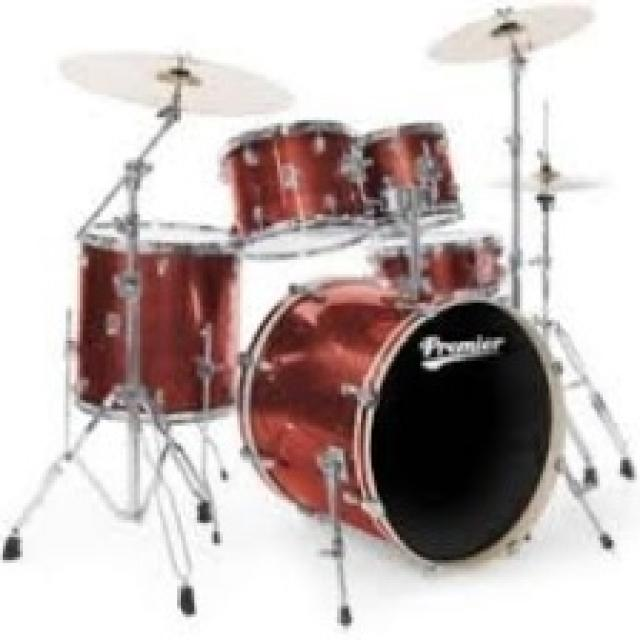drums: (39, 8, 640, 609)
